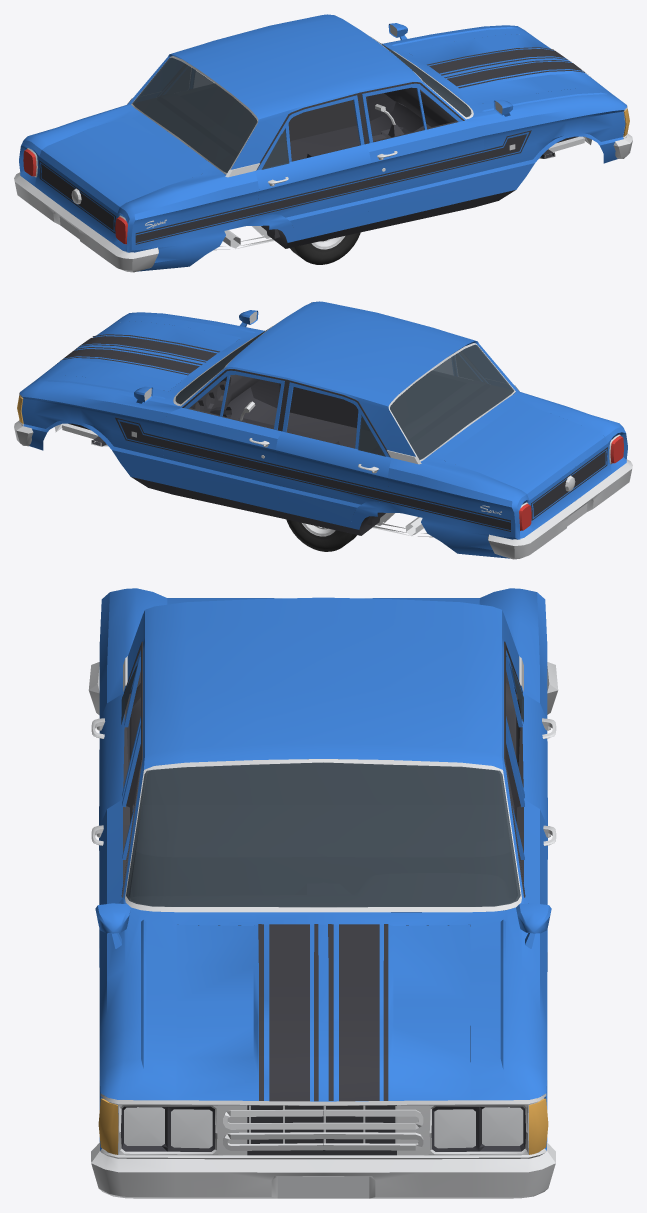
Rendered from falcon.glb.
3 views of the same model, one above another, from view 1: azimuth 30°, elevation 25°; view 2: azimuth 150°, elevation 25°; view 3: azimuth 270°, elevation 25° (orthographic). The views are drawn at different scales.
Visible parts, largest first — view 1: carroceria, goma; view 2: carroceria, goma; view 3: carroceria.
Part boxes in pixels (x1,y1,x2,y2): carroceria: [14, 14, 632, 272]; goma: [290, 232, 360, 264]; carroceria: [14, 301, 632, 559]; goma: [286, 519, 356, 551]; carroceria: [88, 588, 558, 1198].
Size of the model in its own units: 4.6 by 1.79 by 1.81.
